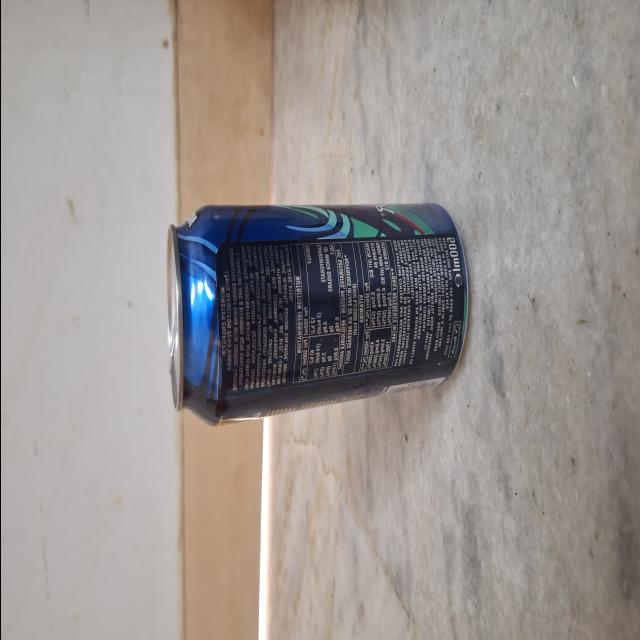Monster LH44: (166, 186, 470, 422)
